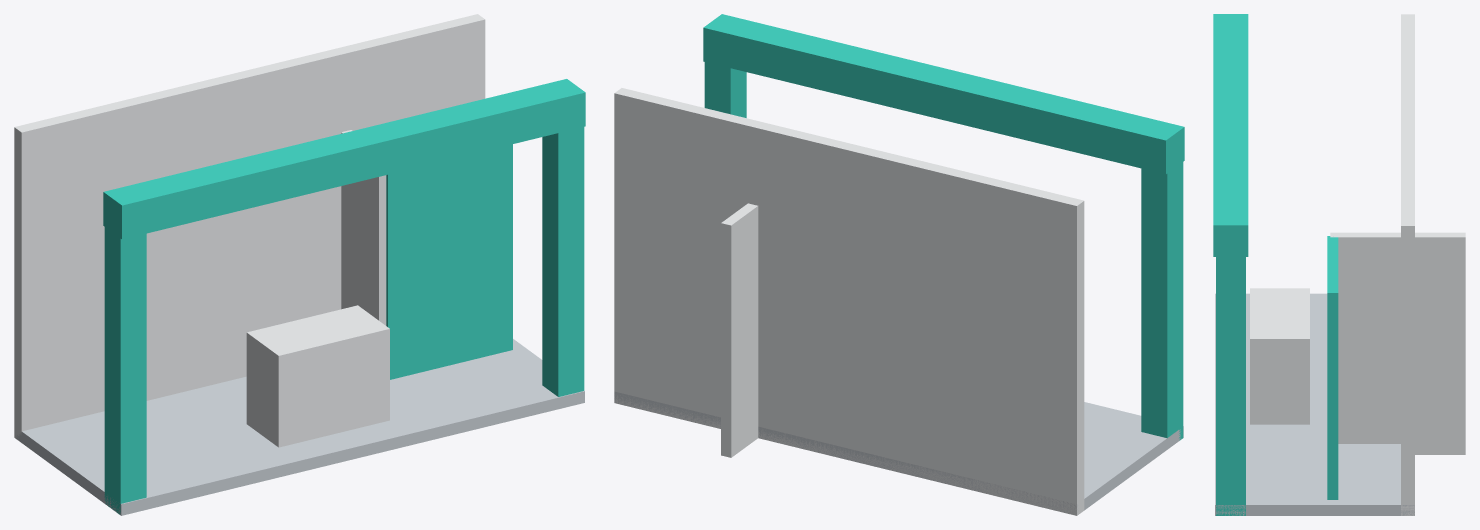
3 renders of one model, left to right at view 1: azimuth 30°, elevation 25°; view 2: azimuth 150°, elevation 25°; view 3: azimuth 270°, elevation 25°, orthographic. The views are drawn at different scales.
Visible parts, largest first — view 1: Exhibition Booth Concept; view 2: Exhibition Booth Concept; view 3: Exhibition Booth Concept.
Boxes of the visible parts, x1,y1,x2,y2 form: Exhibition Booth Concept: [14, 14, 585, 515]; Exhibition Booth Concept: [614, 14, 1184, 515]; Exhibition Booth Concept: [1213, 14, 1465, 515].
Bounding box in the file's own units: 5 × 3.2 × 2.52.
